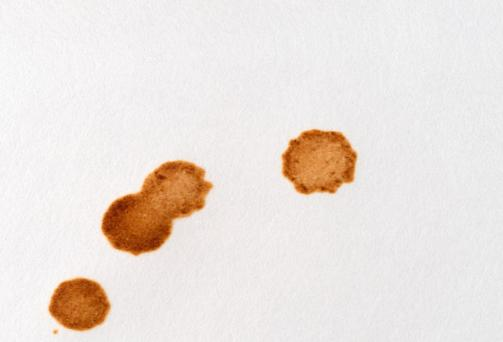stain: (99, 158, 216, 257), (277, 126, 362, 197), (45, 272, 117, 335)
